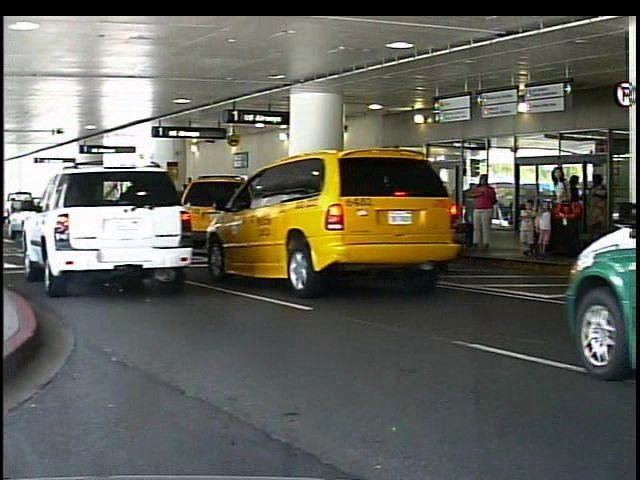person: (550, 164, 575, 255), (474, 170, 500, 256), (589, 173, 612, 242), (568, 173, 588, 243), (523, 199, 543, 254), (539, 201, 556, 255)
